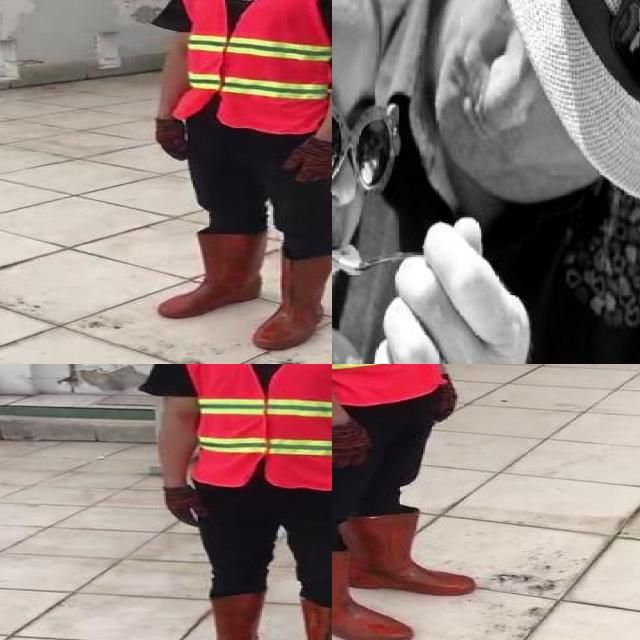boots: (341, 513, 473, 595), (159, 231, 268, 320), (332, 541, 416, 640), (249, 255, 332, 351), (189, 596, 267, 640), (299, 599, 332, 640)
face_nomask: (332, 72, 403, 300)
glasses: (332, 66, 403, 195)
hand_glove: (282, 139, 332, 183), (159, 484, 210, 525), (152, 119, 195, 159), (332, 424, 371, 468)
hand_noglove: (351, 212, 534, 364)
person: (146, 0, 332, 351), (145, 364, 332, 640), (332, 364, 496, 640)
vest: (175, 0, 332, 133), (187, 364, 332, 491)
